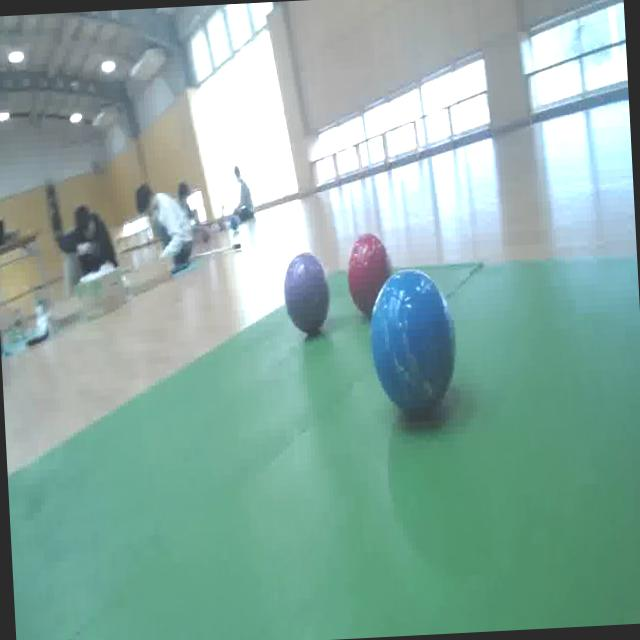blue_ball: (364, 264, 464, 432)
purple_ball: (278, 247, 336, 340)
red_ball: (345, 230, 397, 322)
